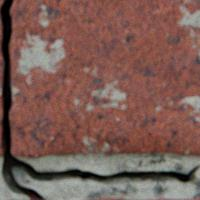brick: (85, 197, 199, 199)
broken_brick: (9, 0, 199, 157), (0, 19, 3, 154)
crack: (0, 0, 199, 199)
